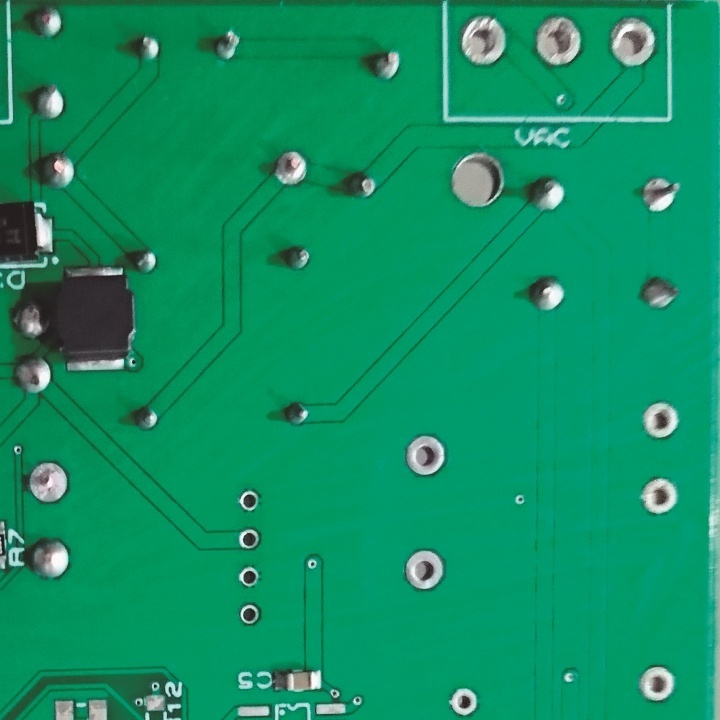F: (605, 16, 663, 69), (25, 458, 80, 512), (532, 14, 585, 69), (459, 12, 507, 66), (402, 546, 448, 594), (639, 400, 682, 444), (640, 173, 681, 218), (407, 434, 447, 480), (632, 663, 682, 695), (269, 147, 310, 186), (639, 475, 678, 514), (442, 683, 485, 716), (236, 560, 263, 594), (238, 602, 265, 633), (236, 488, 263, 517), (239, 528, 263, 552)
